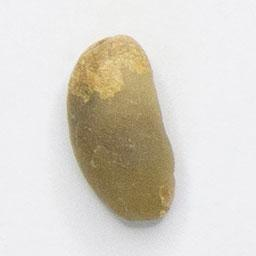longberry: (65, 31, 179, 227)
